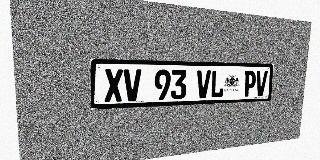3: (171, 70, 187, 99)
9: (154, 69, 171, 100)
L: (210, 70, 225, 98)
P: (243, 71, 256, 97)
V: (124, 69, 141, 101), (196, 70, 211, 98), (255, 71, 268, 96)
X: (104, 69, 123, 102)
